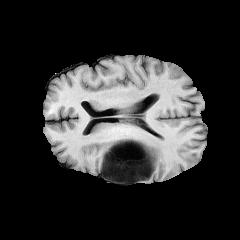glioma: (100, 133, 161, 183)
